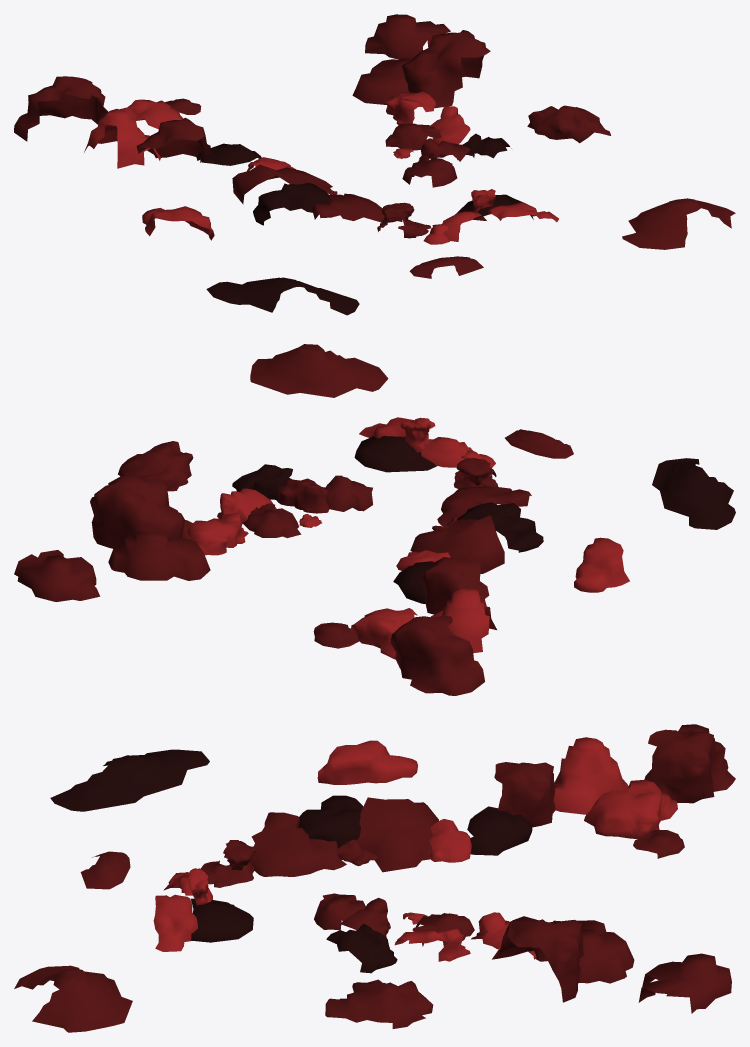
The model's file is GoblinMapBoss_RedRock.fbx.
3 views of the same model, one above another, from view 1: azimuth 30°, elevation 25°; view 2: azimuth 150°, elevation 25°; view 3: azimuth 270°, elevation 25° (orthographic). The views are drawn at different scales.
Visible parts, largest first — view 1: RedRock_dark, RedRock, RedRock_dark_1; view 2: RedRock_dark, RedRock, RedRock_dark_1; view 3: RedRock_dark, RedRock, RedRock_dark_1.
Boxes of the visible parts, box(x1,y1,x2,y2) form: RedRock_dark: box(14, 14, 735, 278); RedRock: box(84, 91, 558, 244); RedRock_dark_1: box(196, 133, 533, 315); RedRock_dark: box(14, 344, 573, 695); RedRock: box(185, 417, 629, 659); RedRock_dark_1: box(232, 436, 735, 603); RedRock_dark: box(14, 724, 735, 1032); RedRock: box(153, 737, 677, 961); RedRock_dark_1: box(50, 749, 532, 973).
Size of the model in its own units: 3640 by 383 by 3916.
